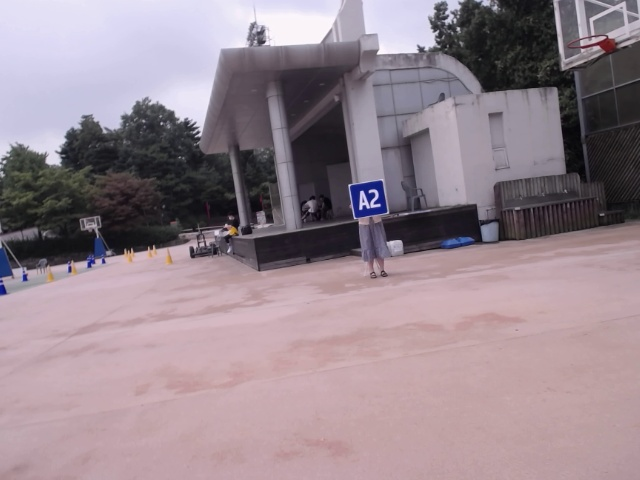delivery_a2: (349, 179, 389, 219)
